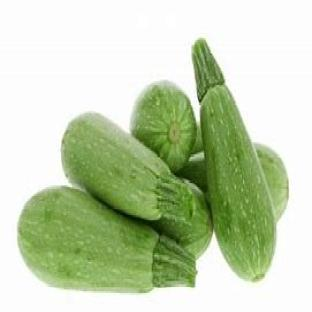Zucchini: (193, 40, 276, 280), (19, 188, 195, 291), (63, 113, 194, 221), (131, 82, 195, 171), (154, 181, 212, 258), (255, 144, 288, 220), (192, 124, 202, 154)
